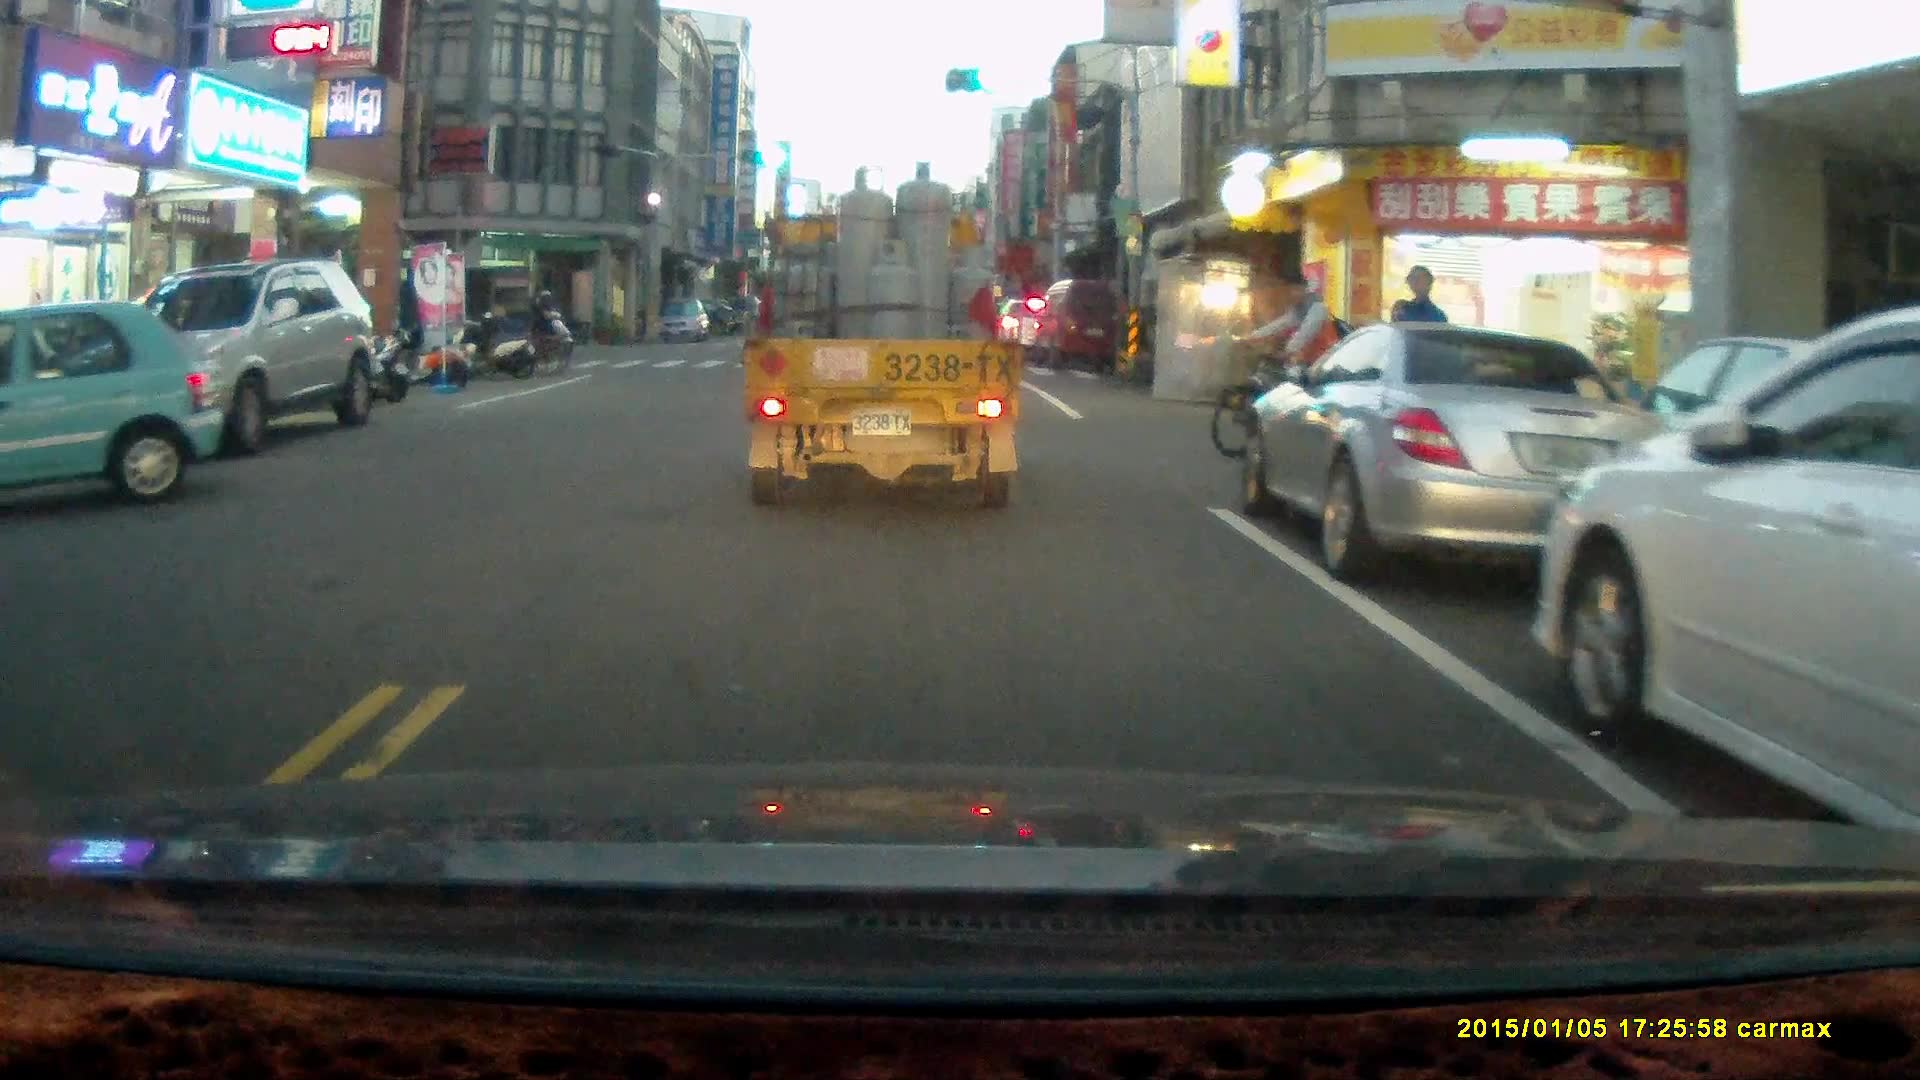rider: (1211, 270, 1376, 460), (514, 283, 578, 361)
vehicle: (1537, 308, 1920, 875), (1238, 325, 1683, 590), (741, 162, 1030, 515), (100, 257, 387, 450), (1, 298, 224, 512), (333, 261, 541, 365), (1037, 273, 1140, 372), (656, 297, 710, 345)
